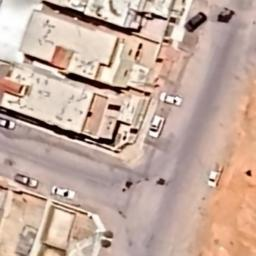SUV: (184, 10, 208, 34), (13, 171, 40, 189)
sedan: (49, 185, 78, 201), (156, 91, 184, 107), (206, 163, 222, 189), (1, 116, 17, 130)
van: (148, 113, 166, 140)
